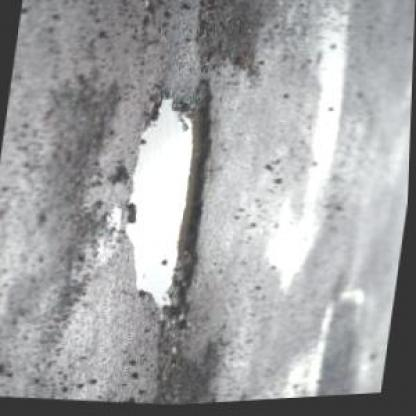pothole: (111, 85, 226, 327)
